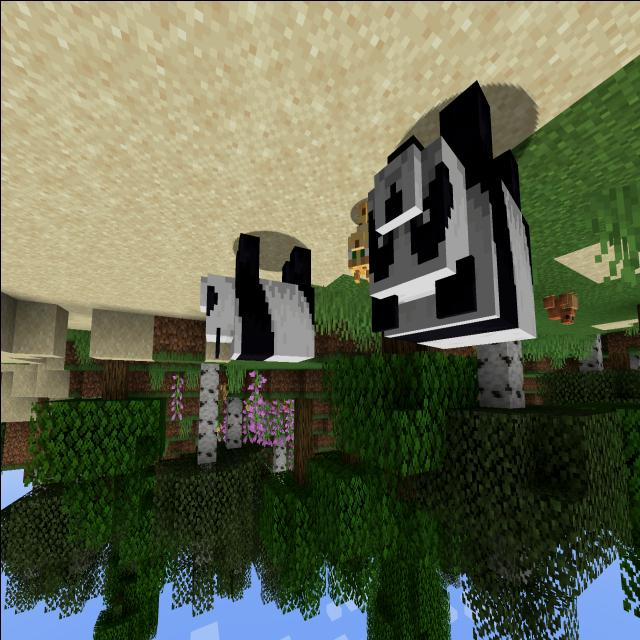Ocelot: (343, 194, 376, 288)
Panda: (367, 94, 538, 356), (193, 222, 324, 374)
